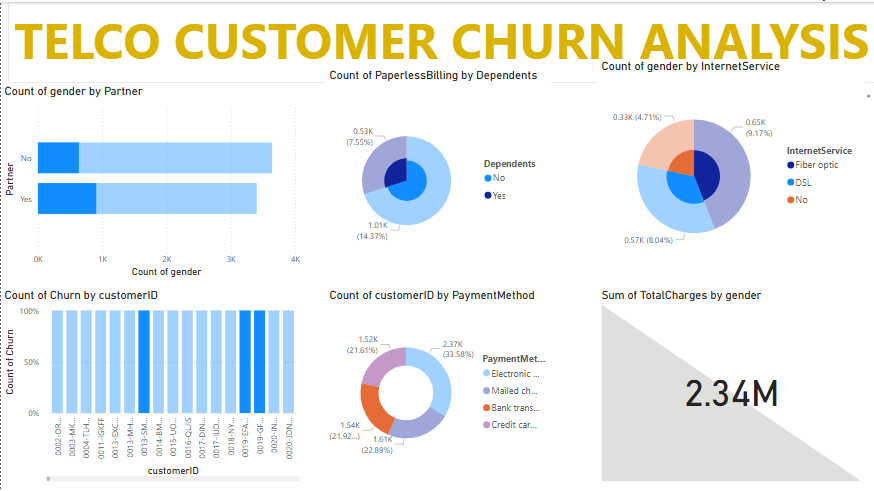

This screenshot's page, from the dashboard's own definition file:
{"tool":"powerbi","page":{"name":"Page 1","canvas":[1280,720],"ordinal":0},"visuals":[{"type":"textbox","box":[10.1,0,1269.9,119.3],"z":0},{"type":"barChart","fields":{"Y":["CountNonNull(WA_Fn-UseC_-Telco-Customer-Churn.gender)"],"Category":["WA_Fn-UseC_-Telco-Customer-Churn.Partner"]},"box":[0,120.2,442.6,288],"z":1},{"type":"pieChart","fields":{"Y":["CountNonNull(WA_Fn-UseC_-Telco-Customer-Churn.gender)"],"Category":["WA_Fn-UseC_-Telco-Customer-Churn.InternetService"]},"box":[873.7,83.9,391.1,324.3],"z":3},{"type":"pieChart","fields":{"Category":["WA_Fn-UseC_-Telco-Customer-Churn.Dependents"],"Y":["CountNonNull(WA_Fn-UseC_-Telco-Customer-Churn.PaperlessBilling)"]},"box":[475,97.3,330,310.9],"z":4},{"type":"hundredPercentStackedColumnChart","fields":{"Category":["WA_Fn-UseC_-Telco-Customer-Churn.customerID"],"Y":["CountNonNull(WA_Fn-UseC_-Telco-Customer-Churn.Churn)"]},"box":[0,418,443,288],"z":5},{"type":"donutChart","fields":{"Y":["CountNonNull(WA_Fn-UseC_-Telco-Customer-Churn.customerID)"],"Category":["WA_Fn-UseC_-Telco-Customer-Churn.PaymentMethod"]},"box":[475,418,330,288],"z":6},{"type":"kpi","fields":{"TrendLine":["WA_Fn-UseC_-Telco-Customer-Churn.gender"],"Indicator":["Sum(WA_Fn-UseC_-Telco-Customer-Churn.TotalCharges)"]},"box":[874,418,391,288],"z":7}]}

Visuals, with their boxes in screenshot pixels (x1, y1, x2, y2), scaled from the page's 1280x720 canvas onto the 874x491 screenshot:
textbox: l=7, t=0, r=873, b=81
barChart - CountNonNull(WA_Fn-UseC_-Telco-Customer-Churn.gender) x WA_Fn-UseC_-Telco-Customer-Churn.Partner: l=0, t=82, r=302, b=278
pieChart - CountNonNull(WA_Fn-UseC_-Telco-Customer-Churn.gender) x WA_Fn-UseC_-Telco-Customer-Churn.InternetService: l=597, t=57, r=864, b=278
pieChart - WA_Fn-UseC_-Telco-Customer-Churn.Dependents x CountNonNull(WA_Fn-UseC_-Telco-Customer-Churn.PaperlessBilling): l=324, t=66, r=550, b=278
hundredPercentStackedColumnChart - WA_Fn-UseC_-Telco-Customer-Churn.customerID x CountNonNull(WA_Fn-UseC_-Telco-Customer-Churn.Churn): l=0, t=285, r=302, b=481
donutChart - CountNonNull(WA_Fn-UseC_-Telco-Customer-Churn.customerID) x WA_Fn-UseC_-Telco-Customer-Churn.PaymentMethod: l=324, t=285, r=550, b=481
kpi - WA_Fn-UseC_-Telco-Customer-Churn.gender x Sum(WA_Fn-UseC_-Telco-Customer-Churn.TotalCharges): l=597, t=285, r=864, b=481
